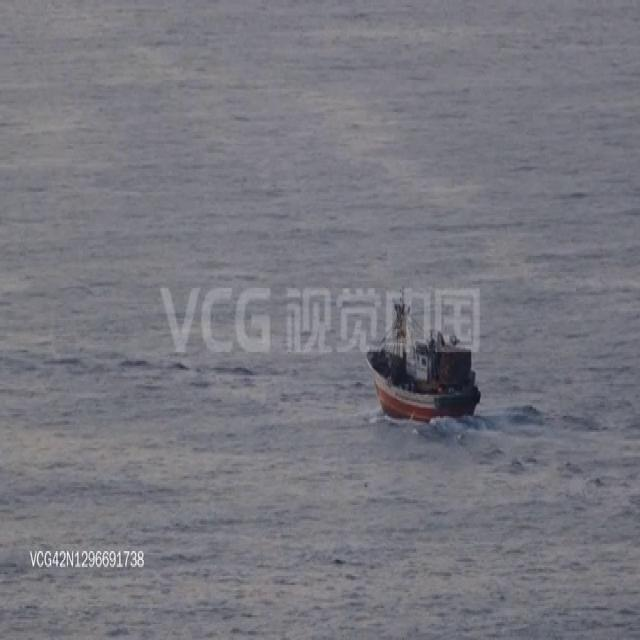houseboat: (366, 290, 477, 426)
